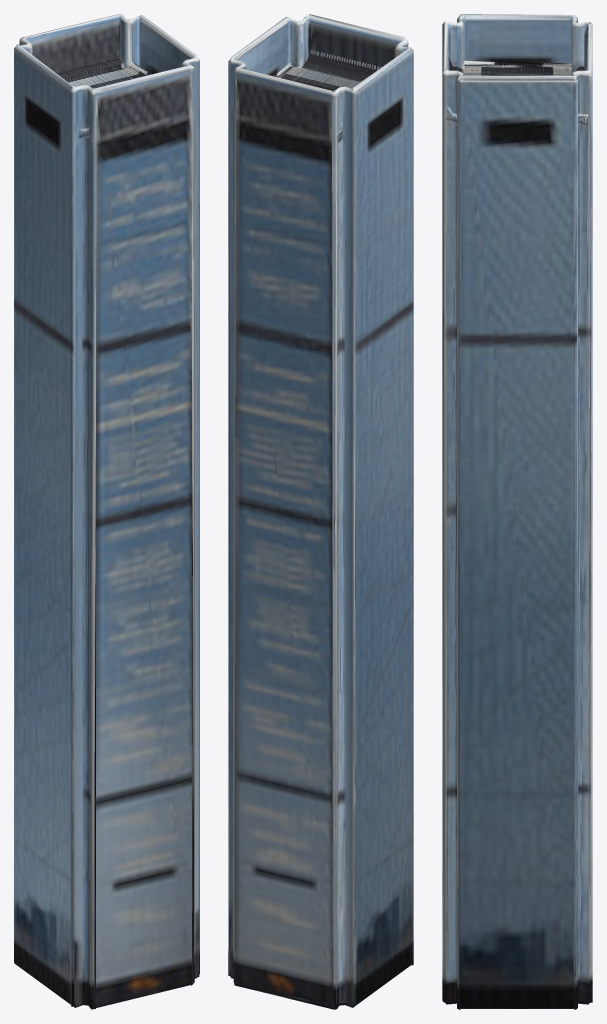
Rendered from narrow_tall_1.glb.
The picture shows the model from 3 angles, left to right: view 1: azimuth 30°, elevation 25°; view 2: azimuth 150°, elevation 25°; view 3: azimuth 270°, elevation 25°; orthographic projection.
Bounding box in the file's own units: 0.2779 × 1.91 × 0.2779.
1 material, 1 textured.
